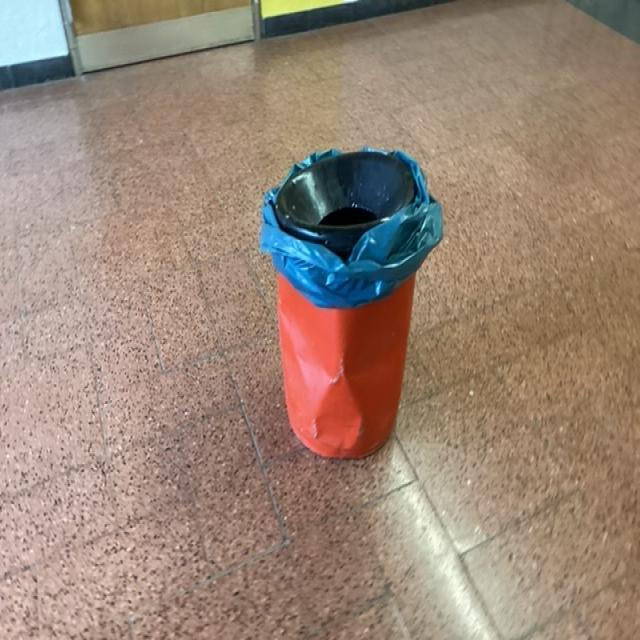garbage container: (222, 104, 482, 508)
